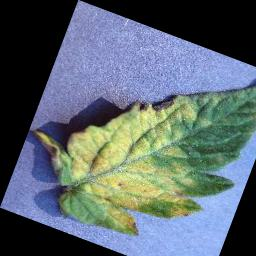Leaf_Mold: (7, 45, 240, 256)
